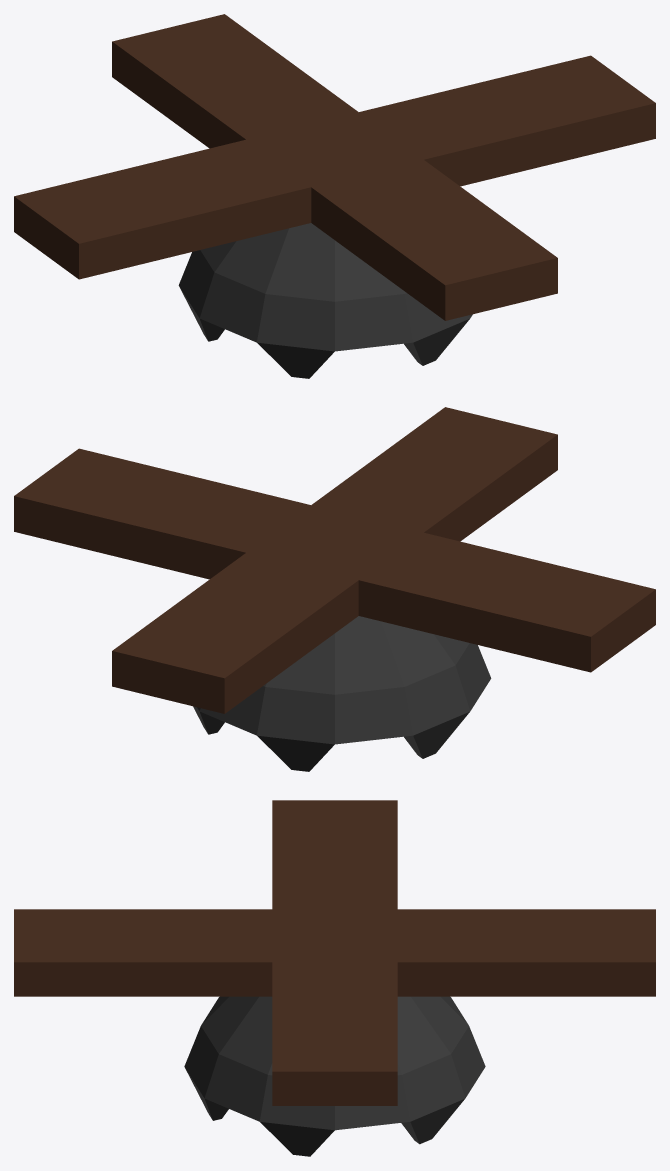
File: spinPlatform.glb
3 views of the same model, one above another, from view 1: azimuth 30°, elevation 25°; view 2: azimuth 150°, elevation 25°; view 3: azimuth 270°, elevation 25° (orthographic). The views are drawn at different scales.
Parts seen in each view (by area): view 1: cross, motor; view 2: cross, motor; view 3: cross, motor.
Boxes of the visible parts, bbox=[...] form: cross: bbox=[14, 14, 655, 320]; motor: bbox=[178, 223, 472, 378]; cross: bbox=[14, 407, 655, 713]; motor: bbox=[193, 616, 491, 771]; cross: bbox=[14, 800, 655, 1105]; motor: bbox=[184, 996, 485, 1156].
Bounding box in the file's own units: 10.25 × 2.95 × 10.25.
1 material, 1 textured.
